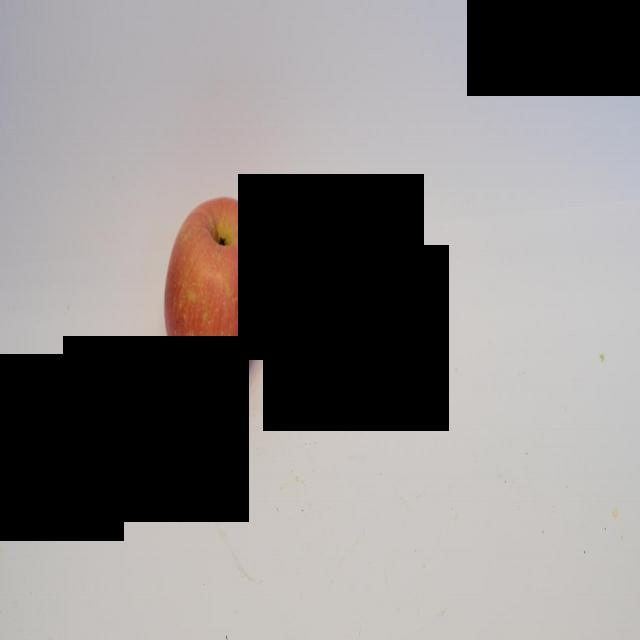apple: (160, 191, 277, 406)
